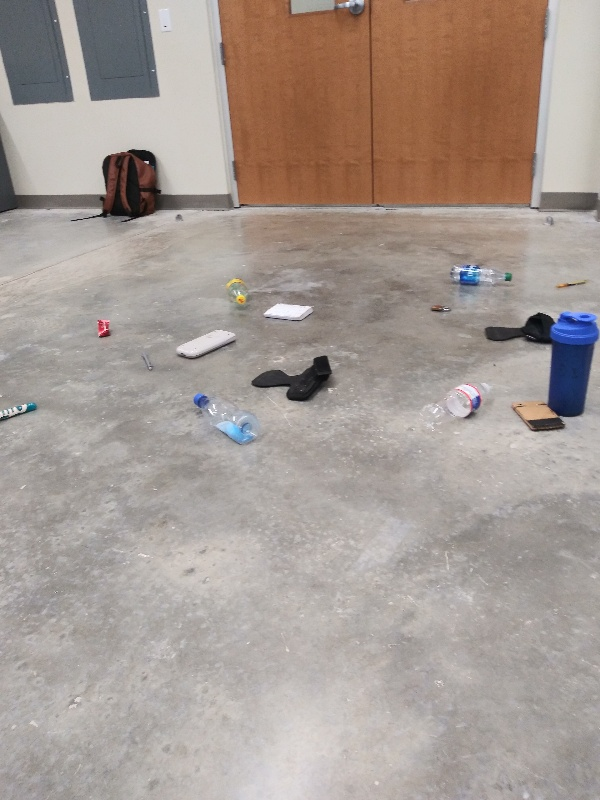bottle: (416, 379, 496, 437), (190, 387, 259, 448), (446, 259, 515, 289), (222, 273, 253, 309)
